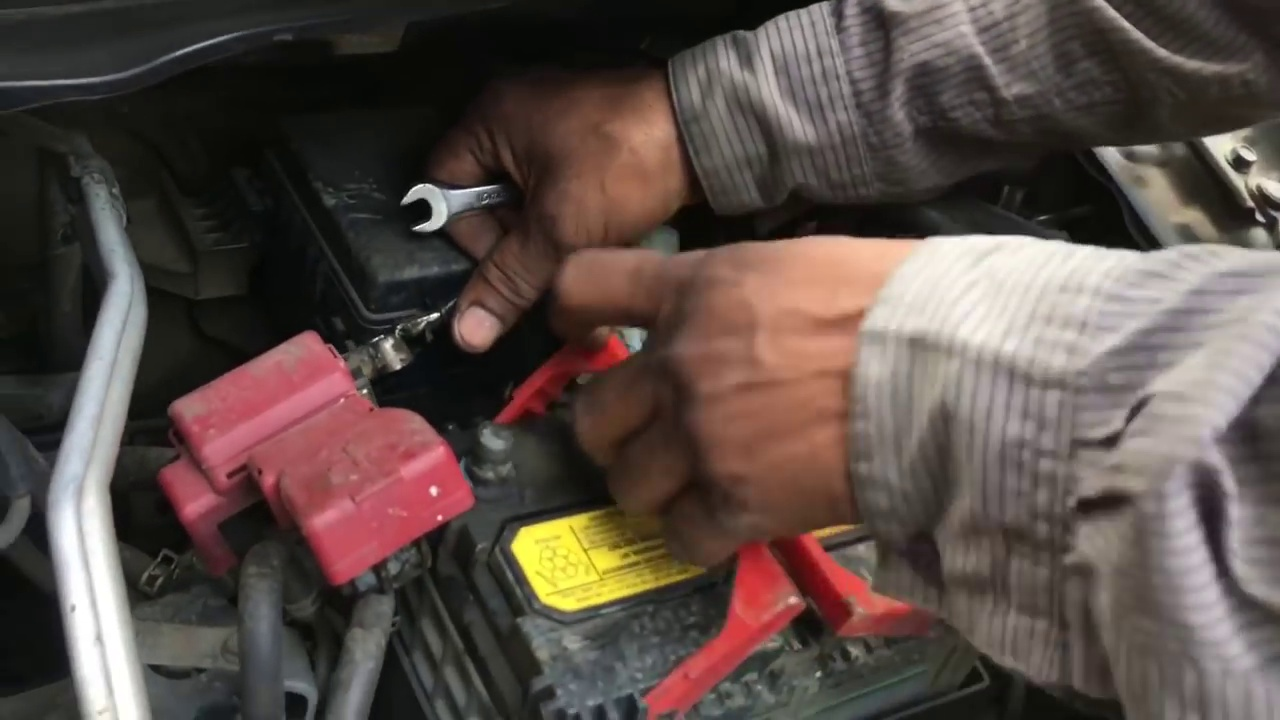battery: (399, 379, 965, 720)
pos_disconnected: (273, 340, 556, 533)
pos_touched: (274, 189, 642, 557)
